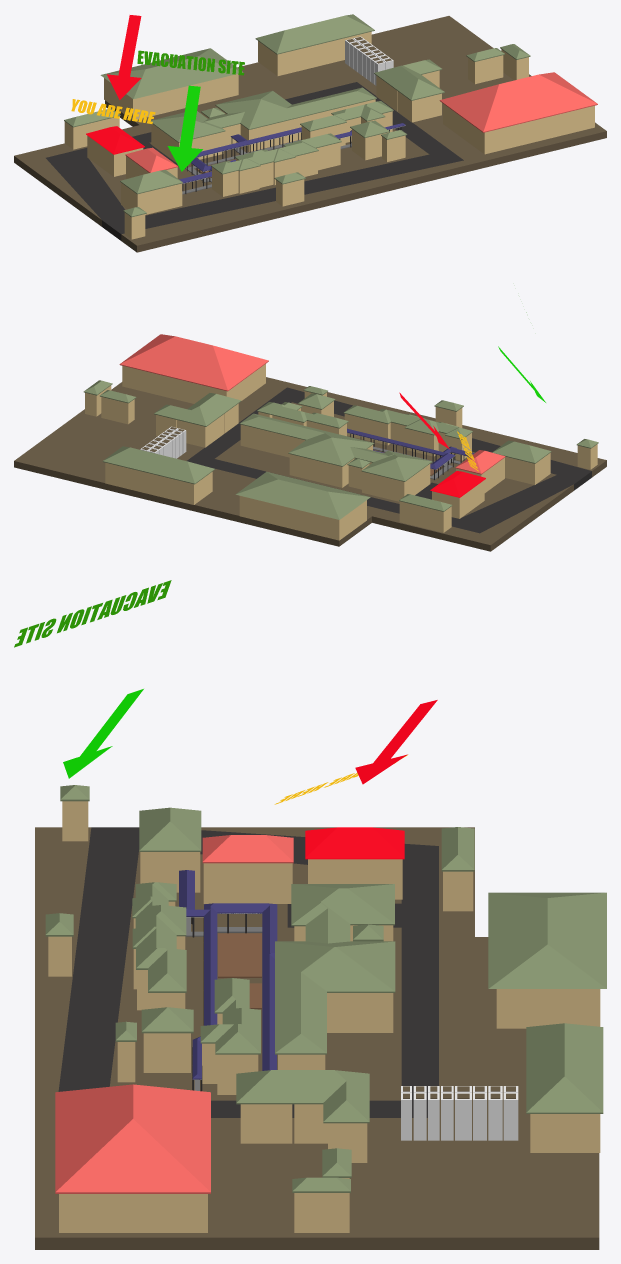
The model's file is ITBUILDING.glb.
The picture shows the model from 3 angles, top to bottom: view 1: azimuth 30°, elevation 25°; view 2: azimuth 150°, elevation 25°; view 3: azimuth 270°, elevation 25°; orthographic projection. The views are drawn at different scales.
Visible parts, largest first — view 1: Toposolid Grassland - 1200mm [352516], Toposolid Grassland - 1200mm [354195], Basic Roof Generic - 125mm [387914], Basic Roof Generic - 125mm [384035], Basic Roof Generic - 125mm [378573], Toposolid Grassland - 1200mm [354195].001, Basic Wall Generic - 200mm [355787], Basic Roof Generic - 125mm [385592], Basic Wall Generic - 200mm [355672], Basic Roof Generic - 125mm [385698], Basic Roof Generic - 125mm [387351], Basic Wall Generic - 200mm [355773] (+39 smaller); view 2: Toposolid Grassland - 1200mm [352516], Toposolid Grassland - 1200mm [354195], Basic Roof Generic - 125mm [387914], Basic Roof Generic - 125mm [384035], Basic Roof Generic - 125mm [378573], Basic Wall Generic - 200mm [355757], Basic Roof Generic - 125mm [385592], Basic Wall Generic - 200mm [355771], Basic Wall Generic - 200mm [355789], Basic Roof Generic - 125mm [385698], Basic Roof Generic - 125mm [387351], Basic Wall Generic - 200mm [357221] (+24 smaller); view 3: Toposolid Grassland - 1200mm [352516], Toposolid Grassland - 1200mm [354195], Basic Roof Generic - 125mm [387914], Basic Roof Generic - 125mm [384035], Basic Roof Generic - 125mm [378573], Toposolid Grassland - 1200mm [354195].001, Basic Roof Generic - 125mm [385592], Basic Wall Generic - 200mm [355788], Basic Roof Generic - 125mm [389243], Basic Roof Generic - 125mm [387351], Basic Roof Generic - 125mm [385698], Basic Wall Generic - 200mm [355719] (+27 smaller).
Boxes of the visible parts, x1=… form: Toposolid Grassland - 1200mm [352516]: x1=14, y1=16, x2=606, y2=252; Toposolid Grassland - 1200mm [354195]: x1=46, y1=82, x2=463, y2=240; Basic Roof Generic - 125mm [387914]: x1=439, y1=72, x2=597, y2=132; Basic Roof Generic - 125mm [384035]: x1=150, y1=87, x2=376, y2=142; Basic Roof Generic - 125mm [378573]: x1=100, y1=48, x2=243, y2=99; Toposolid Grassland - 1200mm [354195].001: x1=123, y1=155, x2=461, y2=233; Basic Wall Generic - 200mm [355787]: x1=485, y1=105, x2=594, y2=153; Basic Roof Generic - 125mm [385592]: x1=255, y1=14, x2=374, y2=54; Basic Wall Generic - 200mm [355672]: x1=134, y1=74, x2=238, y2=119; Basic Roof Generic - 125mm [385698]: x1=211, y1=133, x2=341, y2=174; Basic Roof Generic - 125mm [387351]: x1=374, y1=59, x2=444, y2=100; Basic Wall Generic - 200mm [355773]: x1=278, y1=31, x2=371, y2=75; Toposolid Grassland - 1200mm [352516]: x1=14, y1=377, x2=606, y2=551; Toposolid Grassland - 1200mm [354195]: x1=187, y1=387, x2=591, y2=533; Basic Roof Generic - 125mm [387914]: x1=119, y1=334, x2=268, y2=391; Basic Roof Generic - 125mm [384035]: x1=239, y1=413, x2=432, y2=481; Basic Roof Generic - 125mm [378573]: x1=235, y1=471, x2=370, y2=519; Basic Wall Generic - 200mm [355757]: x1=241, y1=496, x2=338, y2=540; Basic Roof Generic - 125mm [385592]: x1=102, y1=446, x2=215, y2=484; Basic Wall Generic - 200mm [355771]: x1=106, y1=463, x2=194, y2=504; Basic Wall Generic - 200mm [355789]: x1=123, y1=366, x2=227, y2=403; Basic Roof Generic - 125mm [385698]: x1=343, y1=405, x2=472, y2=439; Basic Roof Generic - 125mm [387351]: x1=154, y1=393, x2=241, y2=426; Basic Wall Generic - 200mm [357221]: x1=240, y1=424, x2=304, y2=457; Toposolid Grassland - 1200mm [352516]: x1=35, y1=827, x2=599, y2=1249; Toposolid Grassland - 1200mm [354195]: x1=59, y1=827, x2=438, y2=1117; Basic Roof Generic - 125mm [387914]: x1=55, y1=1084, x2=210, y2=1193; Basic Roof Generic - 125mm [384035]: x1=275, y1=884, x2=395, y2=1054; Basic Roof Generic - 125mm [378573]: x1=488, y1=892, x2=606, y2=988; Toposolid Grassland - 1200mm [354195].001: x1=58, y1=828, x2=139, y2=1091; Basic Roof Generic - 125mm [385592]: x1=526, y1=1023, x2=603, y2=1113; Basic Wall Generic - 200mm [355788]: x1=61, y1=1194, x2=207, y2=1232; Basic Roof Generic - 125mm [389243]: x1=179, y1=870, x2=277, y2=1079; Basic Roof Generic - 125mm [387351]: x1=236, y1=1070, x2=369, y2=1123; Basic Roof Generic - 125mm [385698]: x1=132, y1=882, x2=186, y2=992; Basic Wall Generic - 200mm [355719]: x1=499, y1=989, x2=600, y2=1028.
Bounding box in the file's own units: 86 × 29.38 × 52.53.
